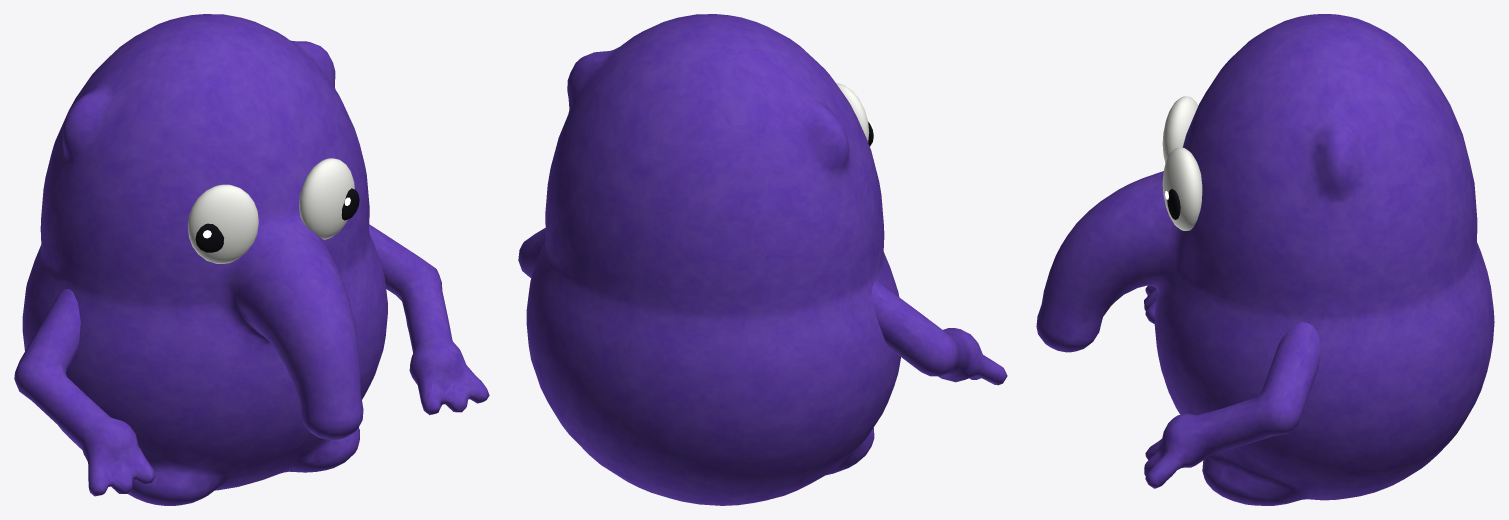
3 renders of one model, left to right at view 1: azimuth 30°, elevation 25°; view 2: azimuth 150°, elevation 25°; view 3: azimuth 270°, elevation 25°, orthographic. The views are drawn at different scales.
Visible parts, largest first — view 1: Body, Arm.001, Arm, Sclera.001, Sclera, Pupil.001; view 2: Body, Arm.001, Arm, Sclera.001; view 3: Body, Arm, Sclera, Sclera.001.
Boxes of the visible parts, x1,y1,x2,y2 form: Body: (22,14,387,505); Arm.001: (14,289,155,496); Arm: (369,224,489,415); Sclera.001: (188,184,258,263); Sclera: (299,158,354,239); Pupil.001: (195,223,223,252); Body: (526,14,900,505); Arm.001: (872,281,1007,385); Arm: (518,228,545,277); Sclera.001: (836,83,869,142); Body: (1036,14,1494,505); Arm: (1144,322,1320,488); Sclera: (1162,147,1202,230); Sclera.001: (1162,96,1198,162).
Size of the model in its own units: 0.7472 by 0.764 by 0.6971.
Materials: 4 (1 with a texture image).
